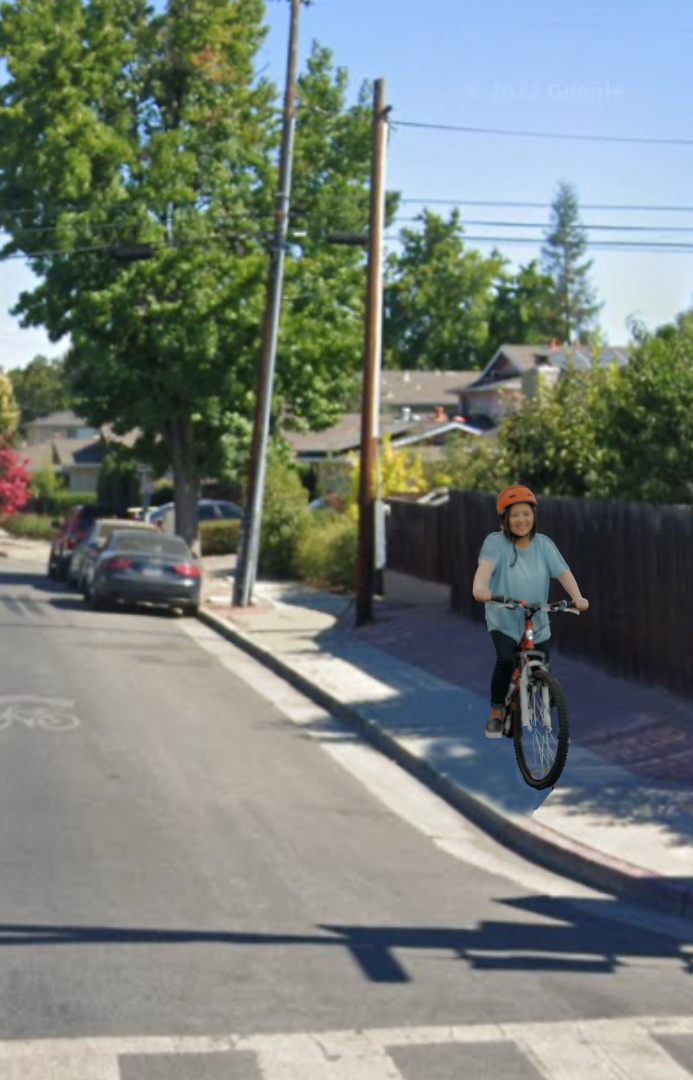Bicycle: (484, 603, 591, 811)
Car: (80, 528, 214, 619)
Person: (455, 473, 606, 671)
Tree: (11, 14, 352, 533)
